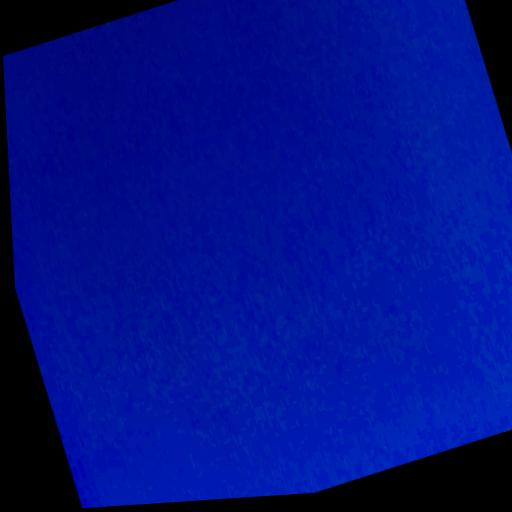drones: (133, 137, 142, 148)
